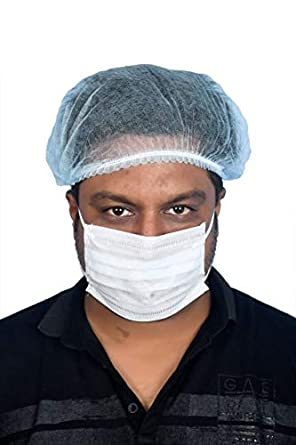with_mask_and_cap: (70, 72, 220, 322)
